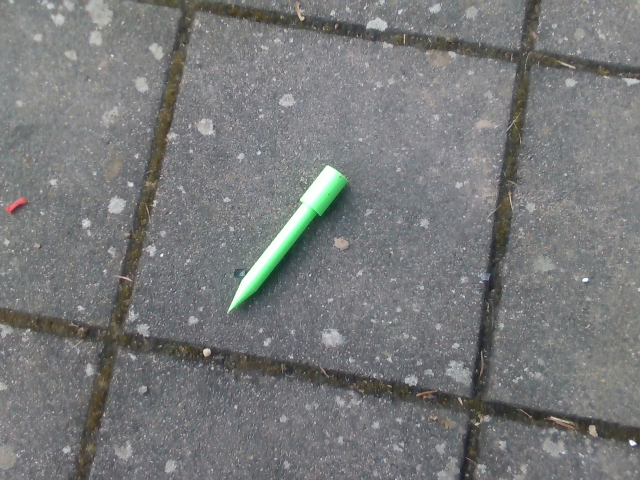Probe: (224, 158, 350, 317)
